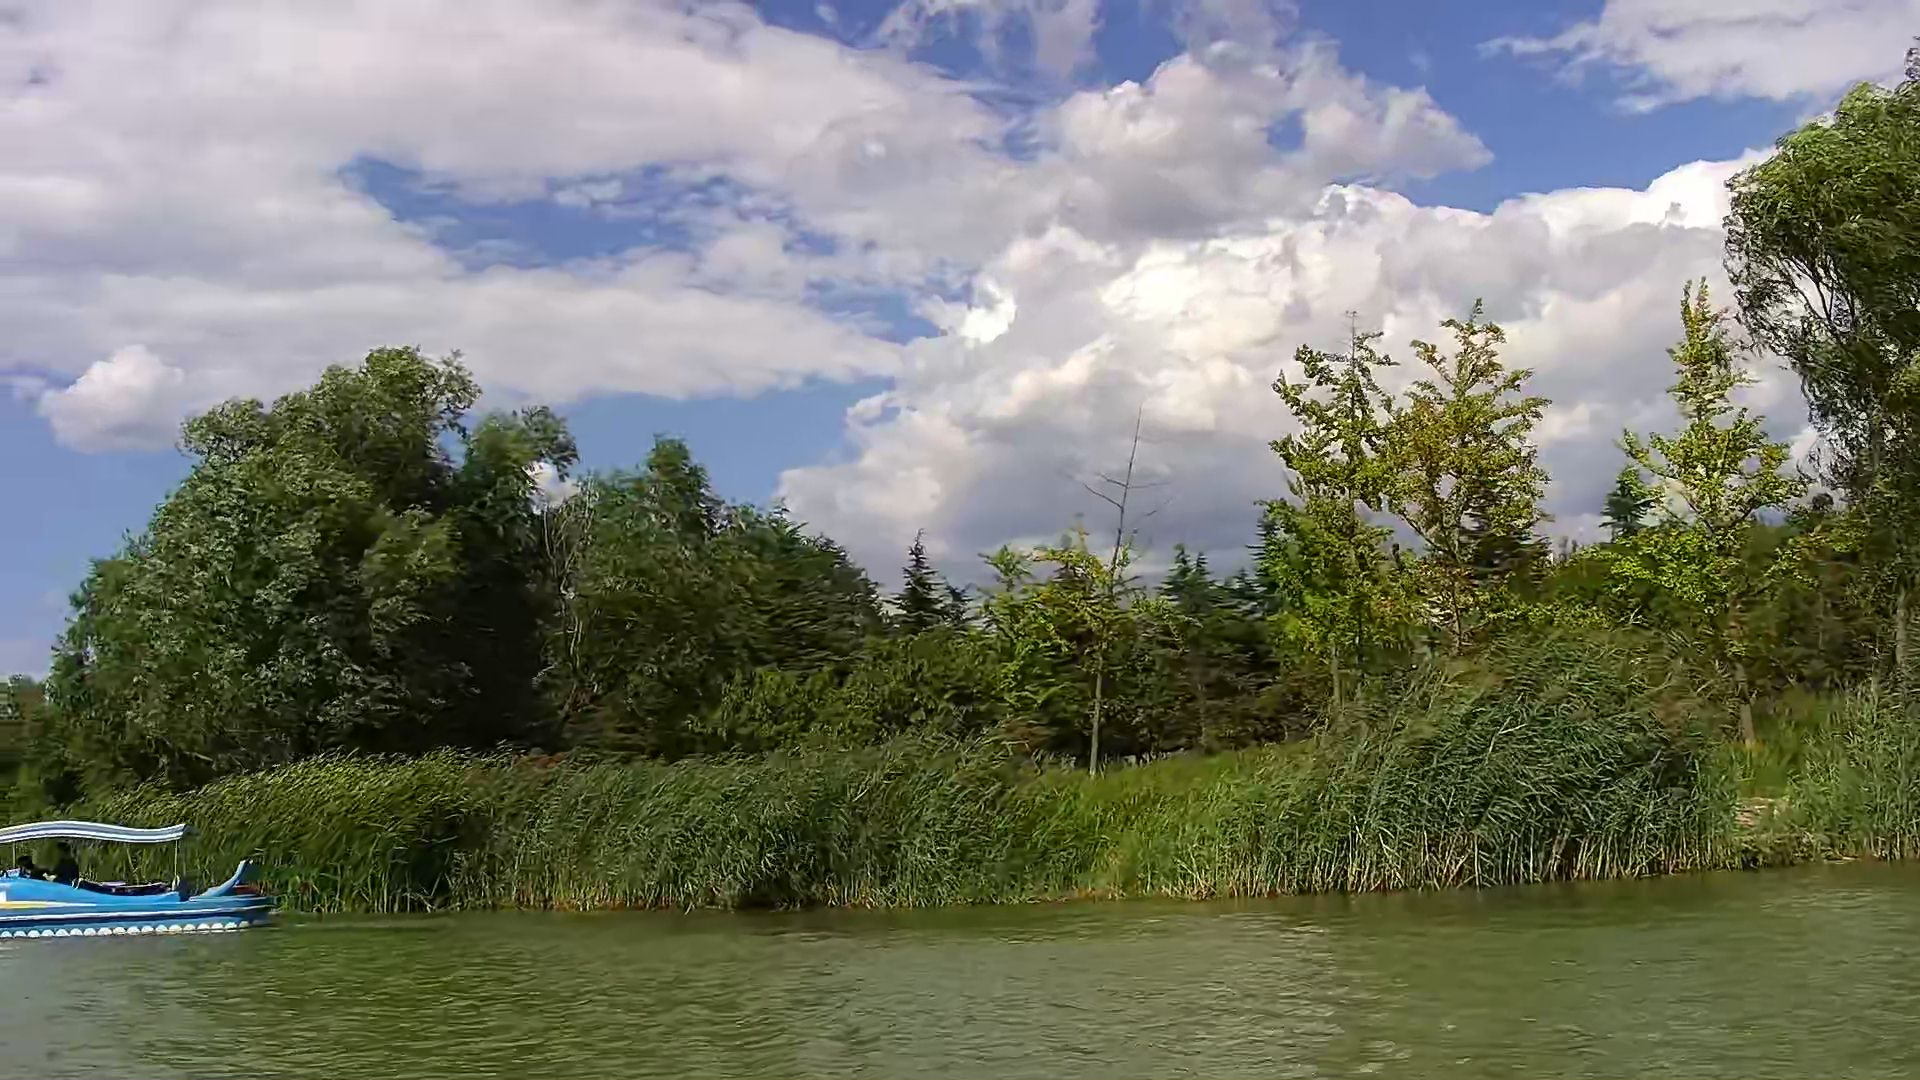boat: (1, 822, 274, 948)
